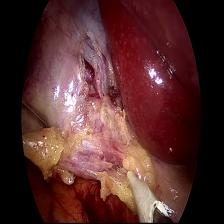Grasper: (20, 95, 56, 146)
Hook: (116, 162, 170, 224)
